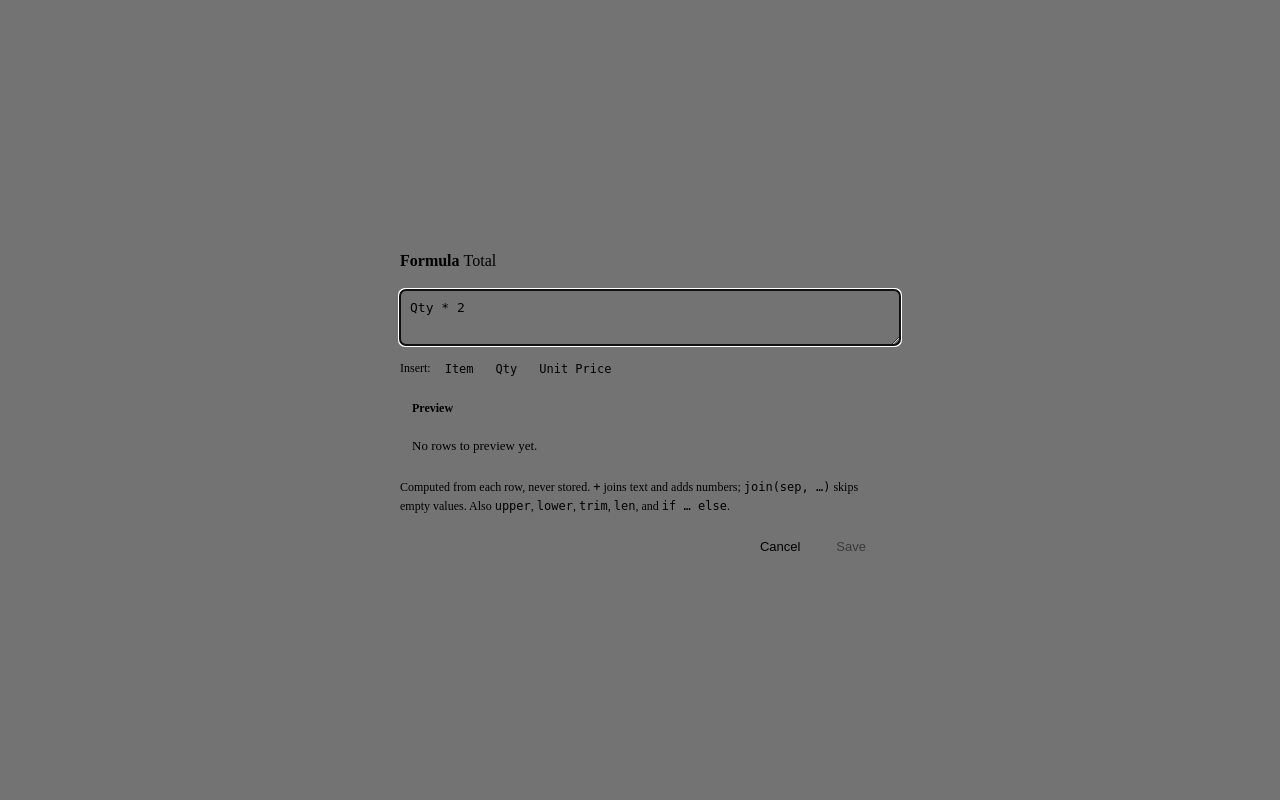
it: FormulaEditorModal › inserts an identifier-shaped column name as written
This screenshot has width=1280, height=800.
Clear the text box named "Formula": (650, 317) [400, 290, 900, 345]
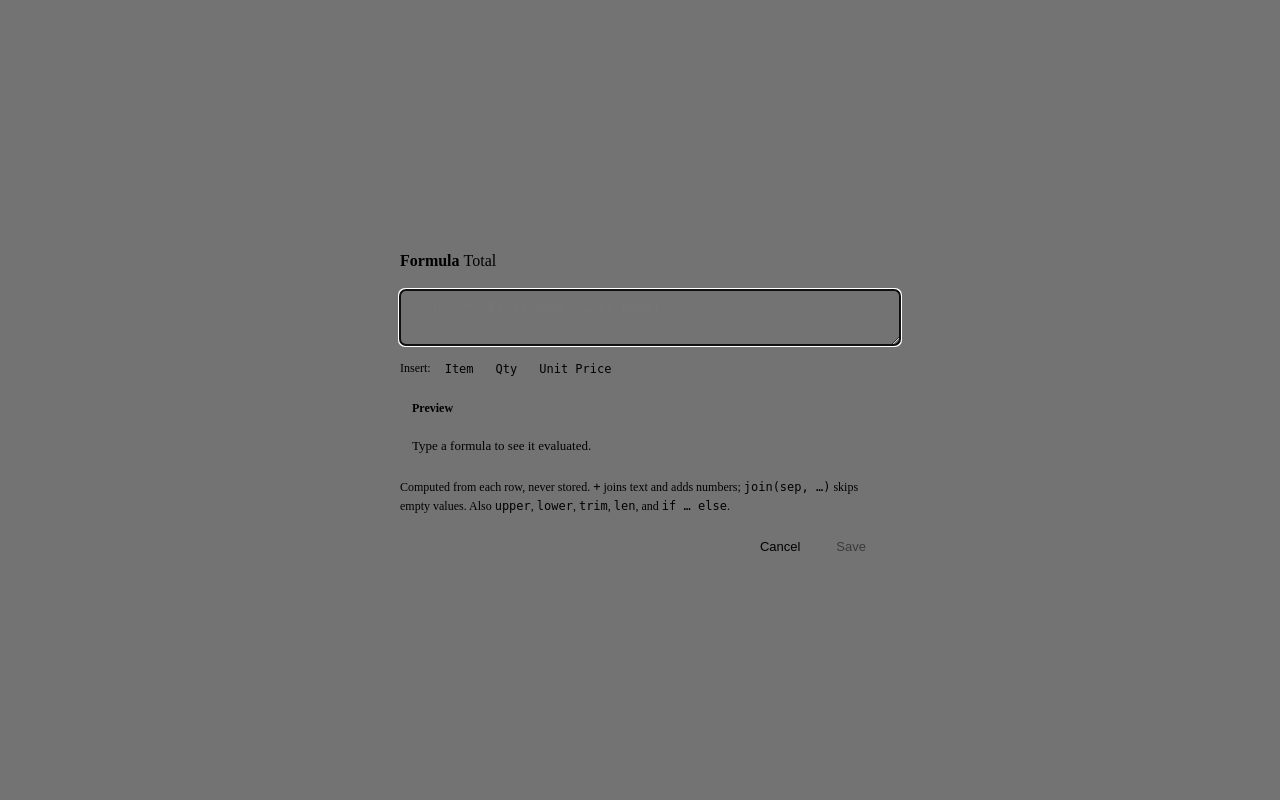
Click the button "Qty": click(506, 369) [488, 359, 525, 379]
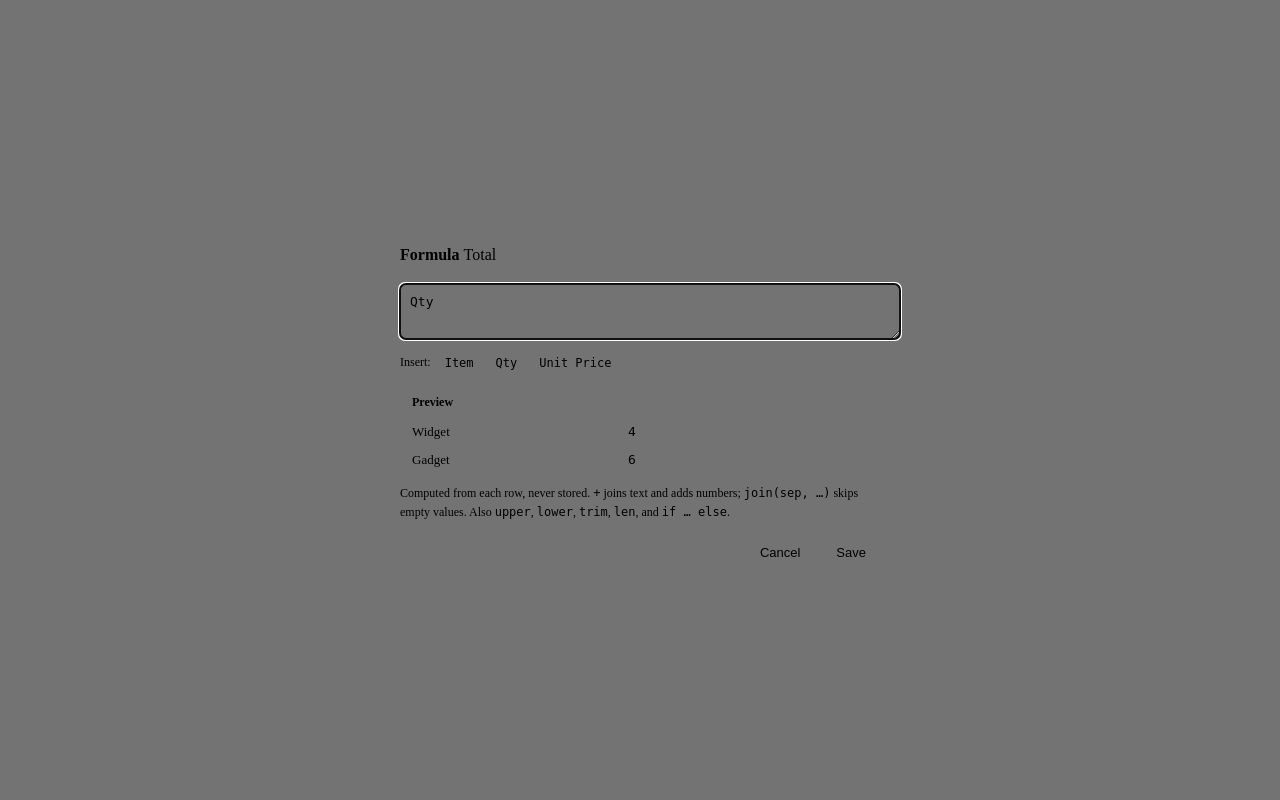
Expected: the text box named "Formula" holds "Qty", [400, 284, 900, 339]
